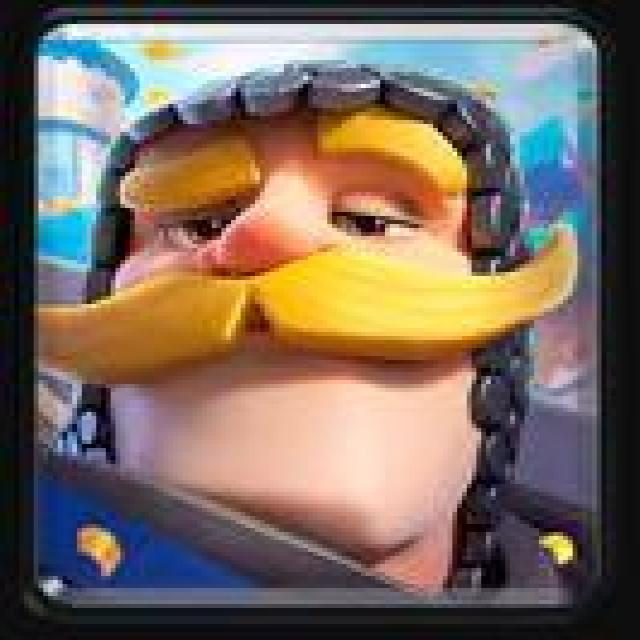Knight: (22, 16, 611, 618)
